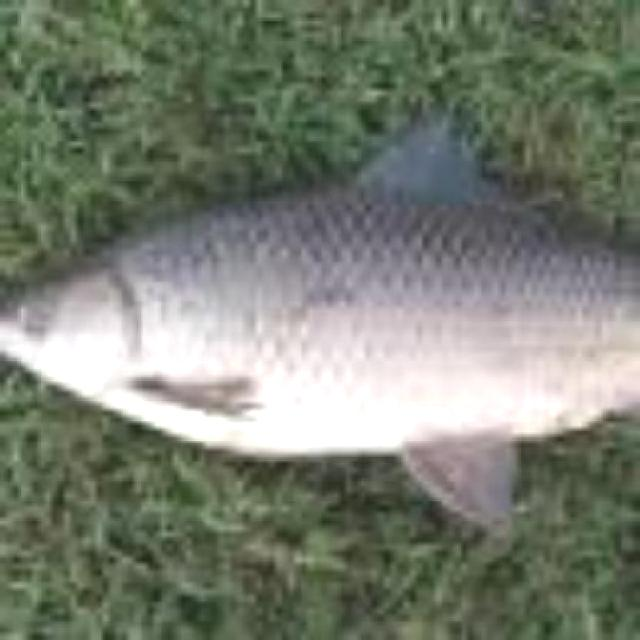ikan-mas: (0, 179, 640, 513)
